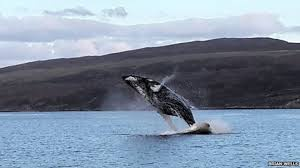humpback: (121, 75, 197, 124)
